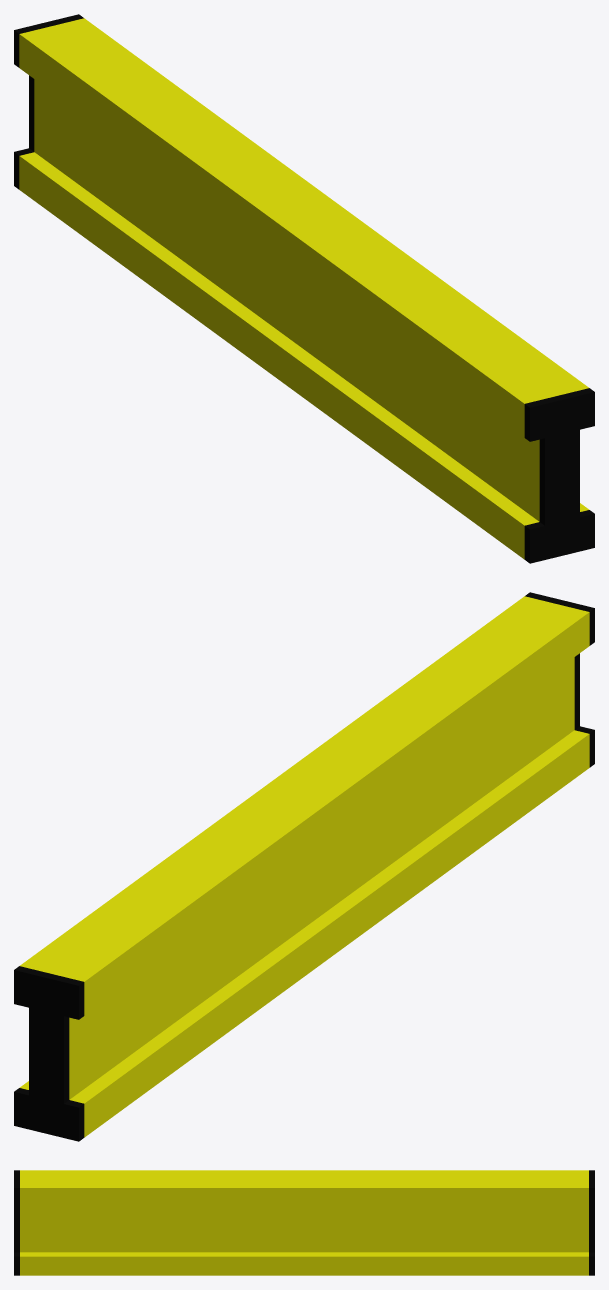
The model's file is 铝合金钢梁.fbx.
3 views of the same model, one above another, from view 1: azimuth 30°, elevation 25°; view 2: azimuth 150°, elevation 25°; view 3: azimuth 270°, elevation 25° (orthographic). The views are drawn at different scales.
Visible parts, largest first — view 1: JJ_luhejingangliang; view 2: JJ_luhejingangliang; view 3: JJ_luhejingangliang.
Boxes of the visible parts, x1,y1,x2,y2 form: JJ_luhejingangliang: (14,14,594,563); JJ_luhejingangliang: (14,592,594,1141); JJ_luhejingangliang: (14,1170,594,1275).
Size of the model in its own units: 15.66 by 35.91 by 215.
